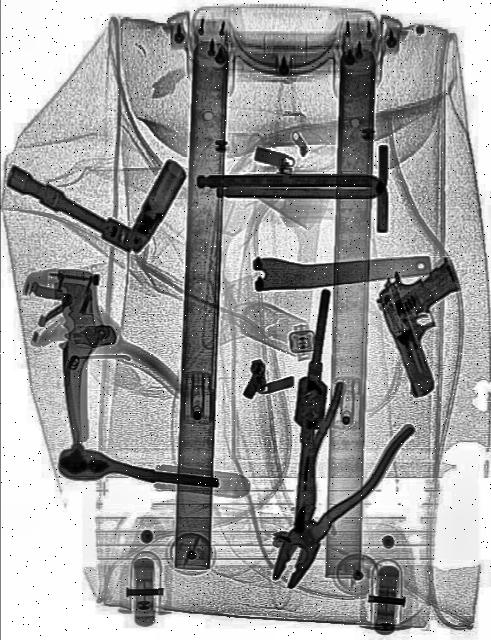Gun: (368, 244, 488, 401)
Pliers: (242, 371, 416, 614)
